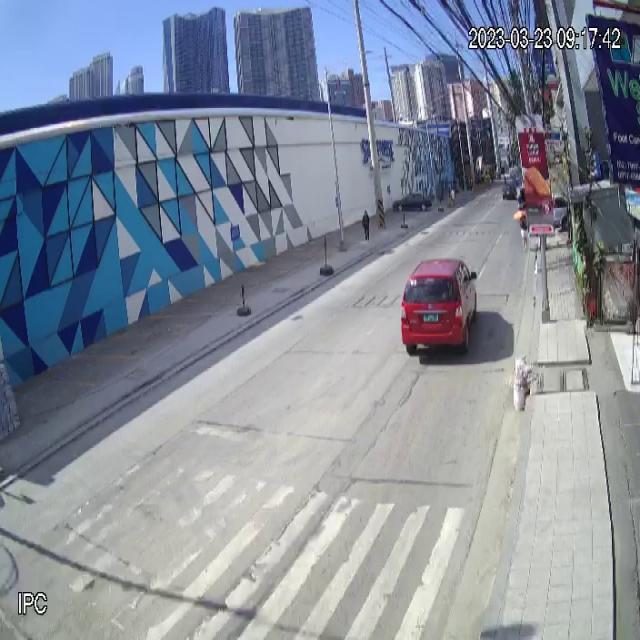Car: (402, 254, 479, 360)
